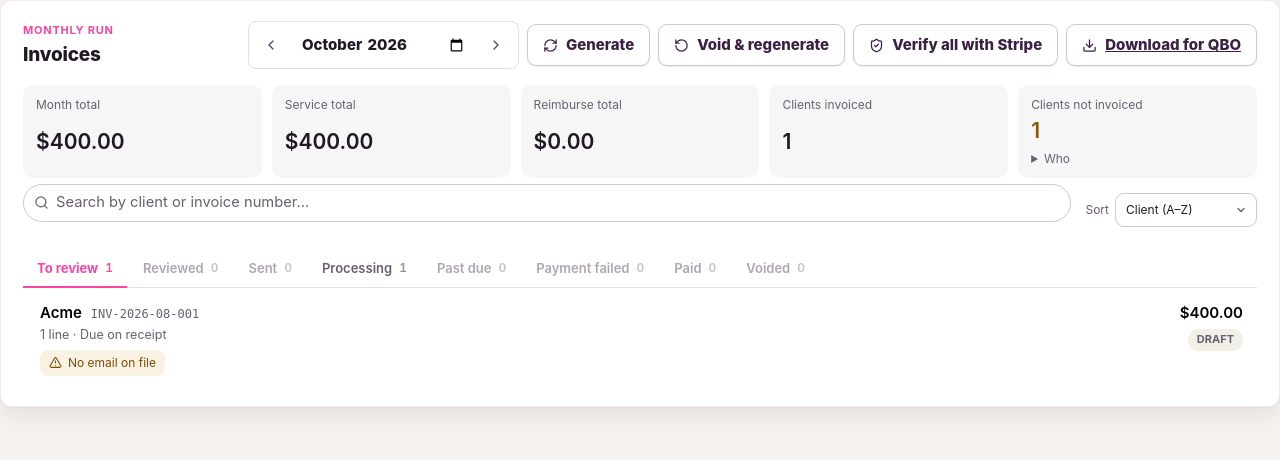
Test: Void & regenerate leaves a clearing payment alone and says so › names how many invoices were left because a bank payment is clearing
Expected: the tab "Sent 0" is shown, [234,250,306,288]
Click the button "Void & regenerate" at (752, 45), box [658,24,845,66]
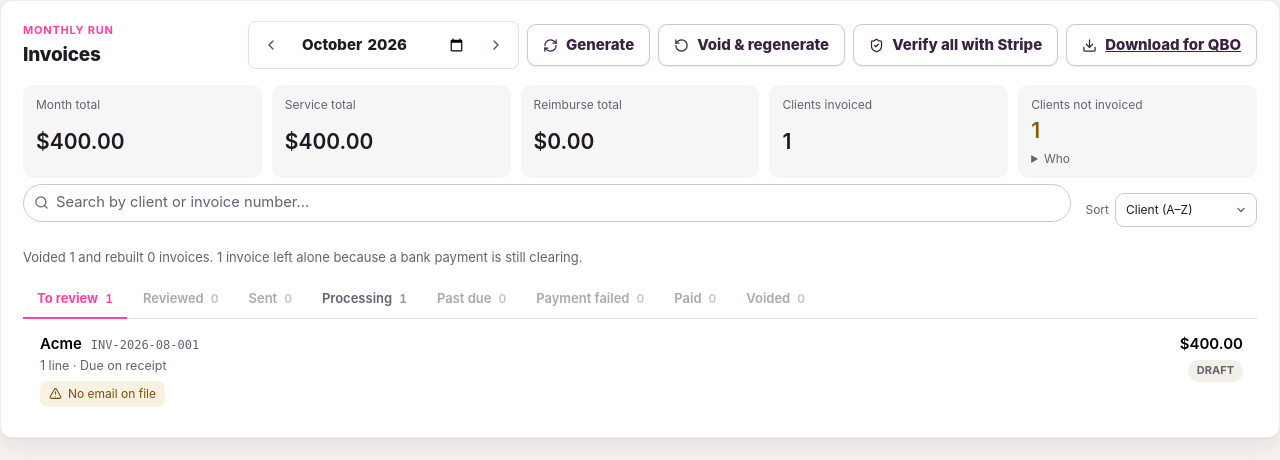
Expected: the text "Voided 1 and rebuilt 0 invoices. 1 invoice left alone because a bank payment is still clearing." is shown, [23,248,582,264]
